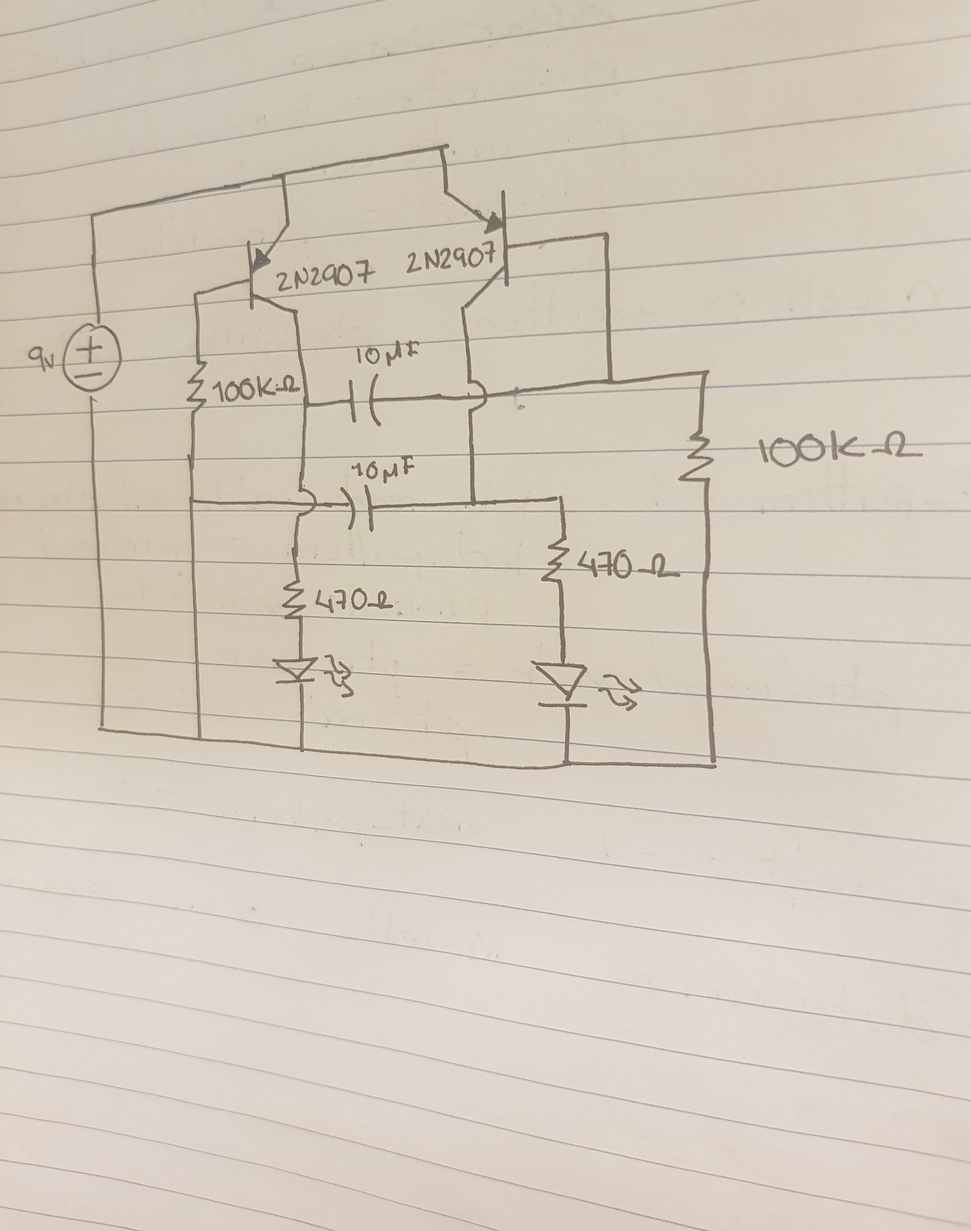capacitor.unpolarized: (343, 373, 387, 429), (337, 482, 380, 536)
crossover: (461, 379, 496, 419), (294, 485, 319, 524)
diode.light_emitting: (529, 655, 646, 717), (268, 654, 359, 700)
junction: (588, 224, 624, 253), (698, 752, 729, 777), (460, 493, 488, 519), (595, 372, 623, 398), (556, 752, 582, 778), (92, 721, 117, 746), (289, 738, 313, 763), (179, 487, 202, 512), (188, 728, 211, 751), (272, 165, 295, 187), (547, 489, 571, 510), (695, 367, 718, 387), (86, 206, 107, 226), (188, 286, 207, 307), (433, 139, 453, 157), (300, 395, 314, 414)
resistor: (674, 425, 720, 487), (538, 533, 574, 587), (279, 573, 313, 626), (184, 357, 211, 417)
text: (753, 425, 926, 468), (574, 549, 684, 582), (402, 240, 497, 275), (275, 258, 375, 291), (314, 587, 397, 615), (211, 374, 288, 402), (349, 454, 418, 485), (353, 340, 427, 367), (24, 344, 60, 377)
transistor.bjt: (439, 181, 515, 318), (241, 217, 304, 321)
voltage.dc: (60, 320, 127, 397)
